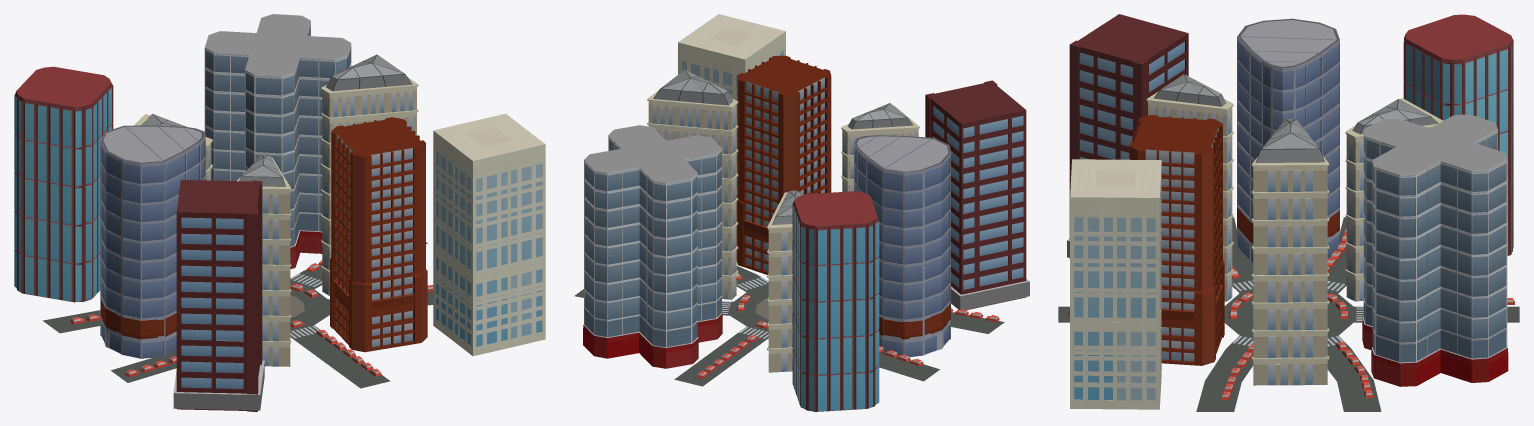
The picture shows the model from 3 angles, left to right: view 1: azimuth 30°, elevation 25°; view 2: azimuth 150°, elevation 25°; view 3: azimuth 270°, elevation 25°; orthographic projection. The views are drawn at different scales.
Parts seen in each view (by area): view 1: midParis, baseNyc.006, midNyc.001, streetParis; view 2: midParis, baseNyc.006, midNyc.001, streetParis; view 3: baseNyc.006, midParis, midNyc.001, streetParis.
Part boxes in pixels (x1,y1,x2,y2): midParis: (14, 14, 545, 394); baseNyc.006: (14, 23, 545, 411); midNyc.001: (100, 230, 543, 410); streetParis: (43, 242, 433, 388); midParis: (584, 14, 1026, 410); baseNyc.006: (584, 33, 1026, 411); midNyc.001: (583, 169, 1029, 368); streetParis: (574, 266, 1004, 386); baseNyc.006: (1069, 35, 1513, 409); midParis: (1069, 14, 1513, 407); midNyc.001: (1067, 207, 1508, 409); streetParis: (1058, 217, 1519, 411).
Size of the model in its own units: 0.9999 by 0.5748 by 1.
